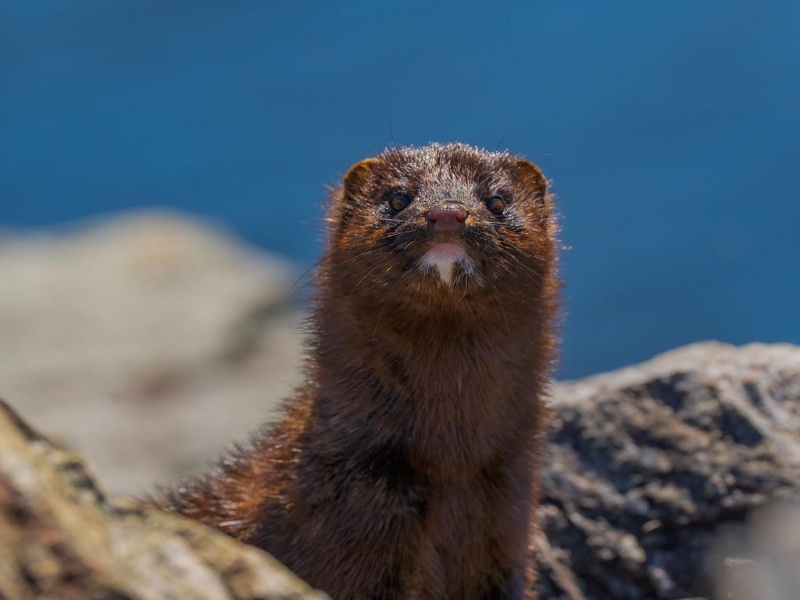minkish: (131, 139, 564, 590)
